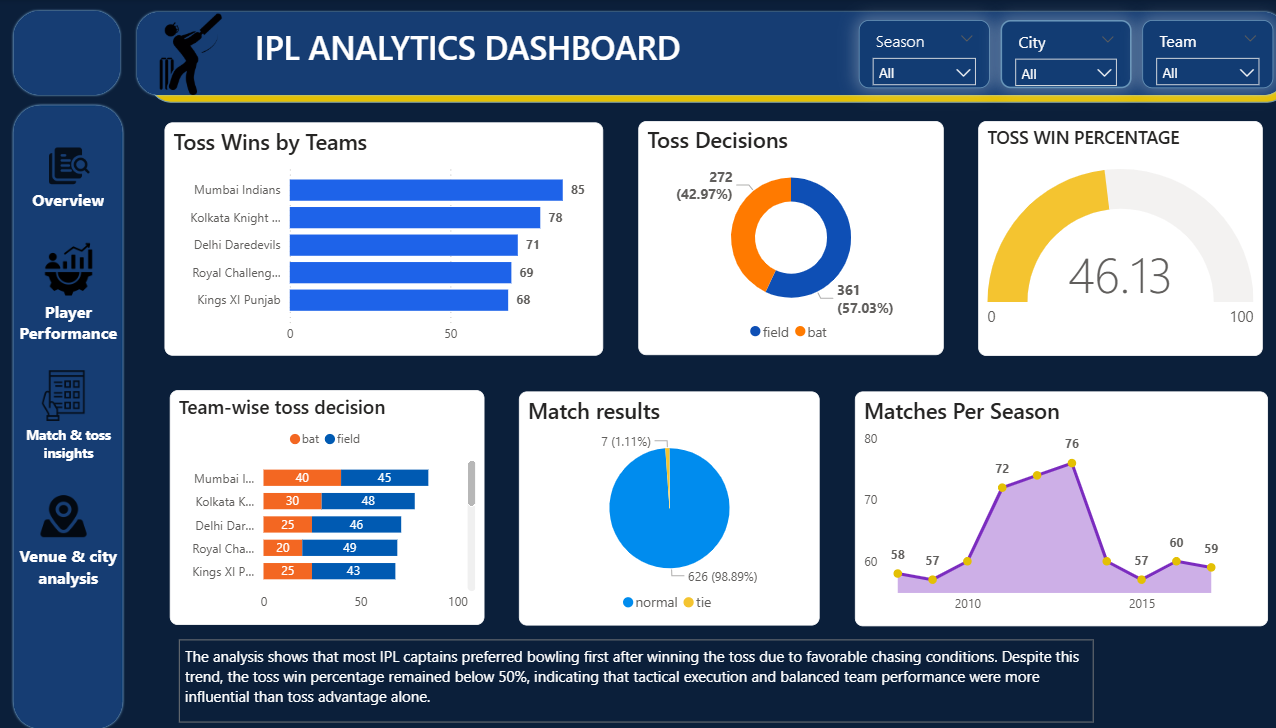

Layout of this report page (visuals, bound fields, positions):
{"tool":"powerbi","page":{"name":"Match & toss insights","canvas":[1280,720],"ordinal":2},"visuals":[{"type":"shape","box":[161.3,20.6,1118.5,81.3],"z":0},{"type":"shape","title":"IPL DASHBOARD","box":[145.8,10.3,1134,86.4],"z":1000},{"type":"slicer","fields":{"Values":["matches (1) - matches (1) csv.season"]},"box":[857.9,20.6,129,67.1],"z":2000},{"type":"slicer","fields":{"Values":["matches (1) - matches (1) csv.city"]},"box":[997.3,20.6,129,67.1],"z":3000},{"type":"slicer","fields":{"Values":["matches (1) - matches (1) csv.team1","matches (1) - matches (1) csv.team2"]},"box":[1136.6,20.6,129,67.1],"z":4000},{"type":"shape","box":[24.5,101.9,112.2,618],"z":5000},{"type":"pageNavigator","box":[28.4,141.9,105.8,472.2],"z":6000},{"type":"image","box":[56.8,141.9,49,43.9],"z":7000},{"type":"image","box":[50.3,238.7,61.9,54.2],"z":8000},{"type":"image","box":[49,359.9,52.9,56.8],"z":9000},{"type":"image","box":[50.3,455.4,51.6,105.8],"z":10000},{"type":"textbox","box":[259.3,20.6,459.3,59.3],"z":11000},{"type":"image","box":[161.3,9,80,90.3],"z":12000},{"type":"shape","box":[24.5,9,109.7,87.7],"z":13000},{"type":"clusteredBarChart","title":"Toss Wins by Teams","fields":{"Y":["deliveries - deliveries csv.TOSS WINS"],"Category":["matches (1) - matches (1) csv.toss_winner"]},"box":[175.7,121.2,430.9,229.6],"z":14000},{"type":"donutChart","title":"Toss Decisions","fields":{"Category":["matches (1) - matches (1) csv.toss_decision"],"Y":["deliveries - deliveries csv.TOSS DESICIONS"]},"box":[640.8,119.6,300,230],"z":15000},{"type":"gauge","title":"TOSS WIN PERCENTAGE ","fields":{"MinValue":["deliveries - deliveries csv.MIN VALUE"],"MaxValue":["deliveries - deliveries csv.MAX VALUE"],"Y":["deliveries - deliveries csv.TOSS WIN PERCENTAGE"]},"box":[974.9,120.3,279.5,230.7],"z":16000},{"type":"barChart","title":"Team-wise toss decision","fields":{"Category":["matches (1) - matches (1) csv.toss_winner"],"Series":["matches (1) - matches (1) csv.toss_decision"],"Y":["CountNonNull(matches (1) - matches (1) csv.id)"]},"box":[180.4,383.9,309.6,230.9],"z":17000},{"type":"pieChart","title":"Match results","fields":{"Category":["matches (1) - matches (1) csv.result"],"Y":["deliveries - deliveries csv.MATCH RESULTS"]},"box":[524,385.8,295.8,230.4],"z":18000},{"type":"lineChart","title":"Matches  Per Season","fields":{"Y":["deliveries - deliveries csv.MATCHES PER SEASON"],"Category":["matches (1) - matches (1) csv.season"]},"box":[853.8,385.2,406.4,230.9],"z":19000},{"type":"textbox","box":[189.6,629.6,899.2,81.3],"z":20000}]}

Visuals, with their boxes in screenshot pixels (x1, y1, x2, y2), scaled from the page's 1280x720 canvas onto the 1276x728 screenshot:
shape: rect(161, 21, 1275, 103)
"IPL DASHBOARD" shape: rect(145, 10, 1275, 98)
slicer - matches (1) - matches (1) csv.season: rect(855, 21, 984, 89)
slicer - matches (1) - matches (1) csv.city: rect(994, 21, 1123, 89)
slicer - matches (1) - matches (1) csv.team1 x matches (1) - matches (1) csv.team2: rect(1133, 21, 1262, 89)
shape: rect(24, 103, 136, 727)
pageNavigator: rect(28, 143, 134, 621)
image: rect(57, 143, 105, 188)
image: rect(50, 241, 112, 296)
image: rect(49, 364, 102, 421)
image: rect(50, 460, 102, 567)
textbox: rect(258, 21, 716, 81)
image: rect(161, 9, 241, 100)
shape: rect(24, 9, 134, 98)
"Toss Wins by Teams" clusteredBarChart: rect(175, 123, 605, 355)
"Toss Decisions" donutChart: rect(639, 121, 938, 353)
"TOSS WIN PERCENTAGE " gauge: rect(972, 122, 1250, 355)
"Team-wise toss decision" barChart: rect(180, 388, 488, 622)
"Match results" pieChart: rect(522, 390, 817, 623)
"Matches  Per Season" lineChart: rect(851, 389, 1256, 623)
textbox: rect(189, 637, 1085, 719)
